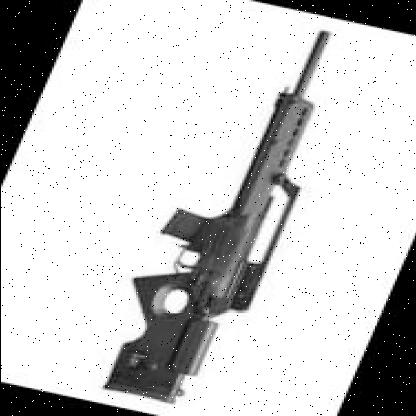rifle: (82, 6, 368, 412)
